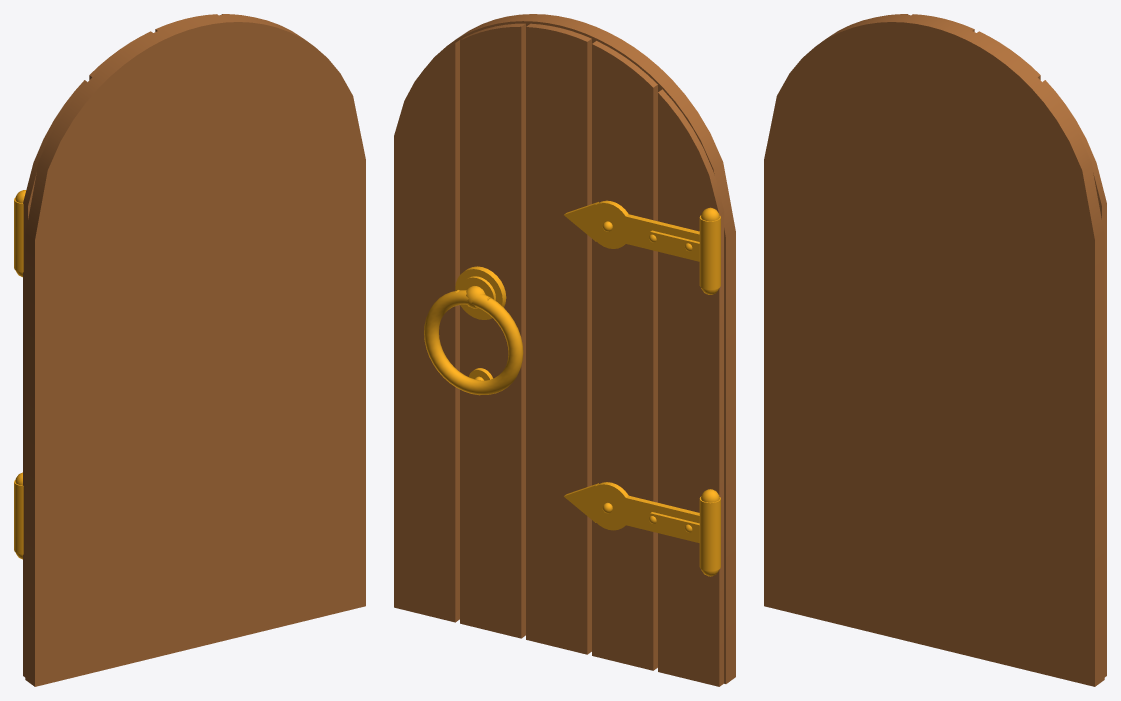
Rendered from HaloShop_Juice_ornaments.glb.
3 renders of one model, left to right at view 1: azimuth 30°, elevation 25°; view 2: azimuth 150°, elevation 25°; view 3: azimuth 330°, elevation 25°, orthographic.
Parts seen in each view (by area): view 1: Orn_HaloShop_Juice_Leaf, Orn_HaloShop_Juice_Hinge1, Orn_HaloShop_Juice_Hinge0; view 2: Orn_HaloShop_Juice_Leaf, Orn_HaloShop_Juice_Hinge0, Orn_HaloShop_Juice_Hinge1, Orn_HaloShop_Juice_Knocker; view 3: Orn_HaloShop_Juice_Leaf.
Part boxes in pixels (box(x1,y1,x2,y2)): Orn_HaloShop_Juice_Leaf: box(23, 14, 365, 686); Orn_HaloShop_Juice_Hinge1: box(14, 190, 26, 277); Orn_HaloShop_Juice_Hinge0: box(14, 472, 23, 559); Orn_HaloShop_Juice_Leaf: box(394, 14, 735, 686); Orn_HaloShop_Juice_Hinge0: box(564, 482, 720, 576); Orn_HaloShop_Juice_Hinge1: box(564, 200, 720, 294); Orn_HaloShop_Juice_Knocker: box(424, 266, 523, 395); Orn_HaloShop_Juice_Leaf: box(764, 14, 1106, 686).
Size of the model in its own units: 4.32 by 7.7 by 0.61.
